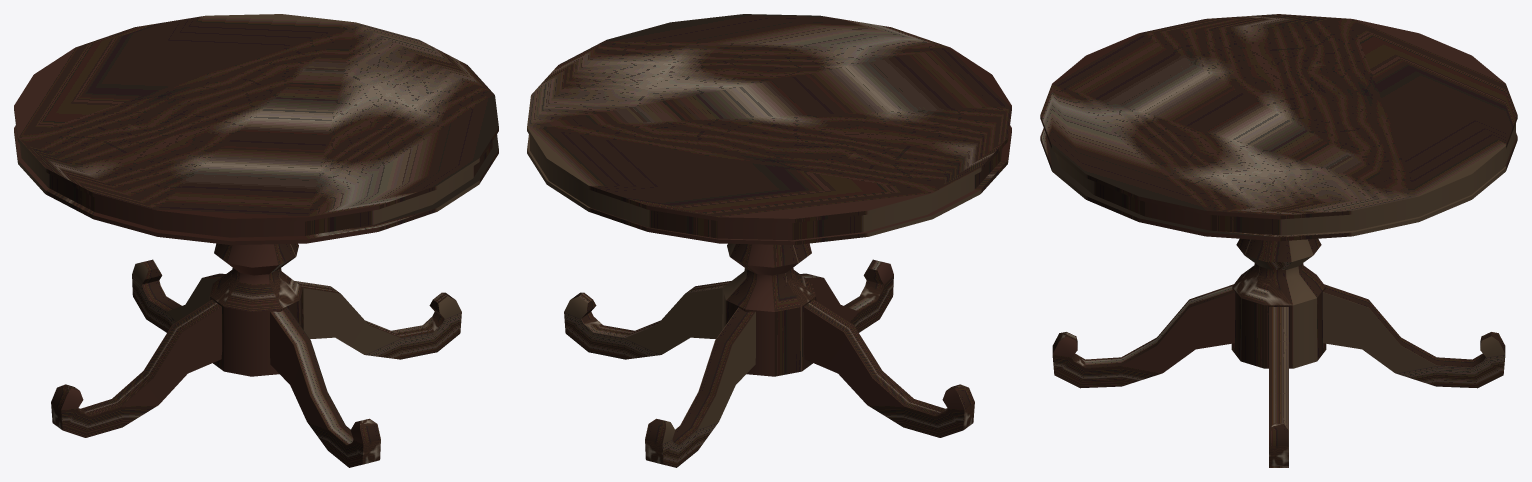
Rendered from cand_table_round_quat-w.glb.
The picture shows the model from 3 angles, left to right: view 1: azimuth 30°, elevation 25°; view 2: azimuth 150°, elevation 25°; view 3: azimuth 270°, elevation 25°; orthographic projection. The views are drawn at different scales.
Parts seen in each view (by area): view 1: Table_RoundSmall2; view 2: Table_RoundSmall2; view 3: Table_RoundSmall2.
Boxes of the visible parts, bbox=[...] form: Table_RoundSmall2: bbox=[14, 14, 498, 467]; Table_RoundSmall2: bbox=[527, 14, 1011, 467]; Table_RoundSmall2: bbox=[1040, 14, 1517, 467].
Size of the model in its own units: 1.94 by 1.21 by 1.94.
Materials: 1 (1 with a texture image).
